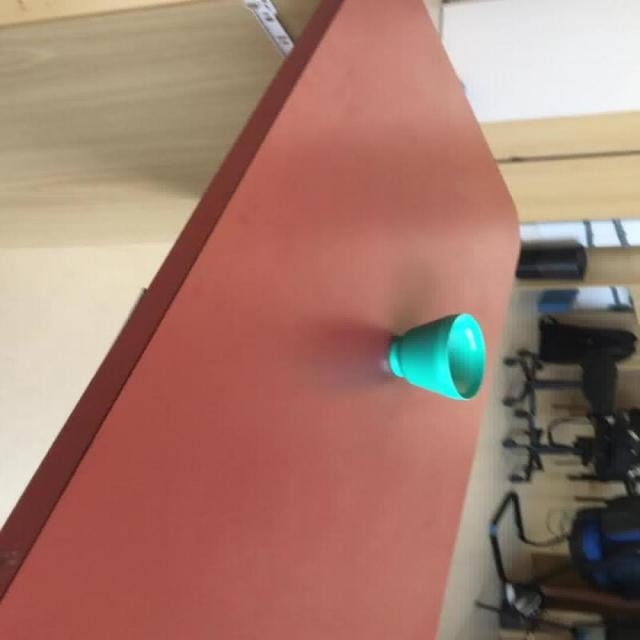Bowl: (386, 312, 486, 401)
